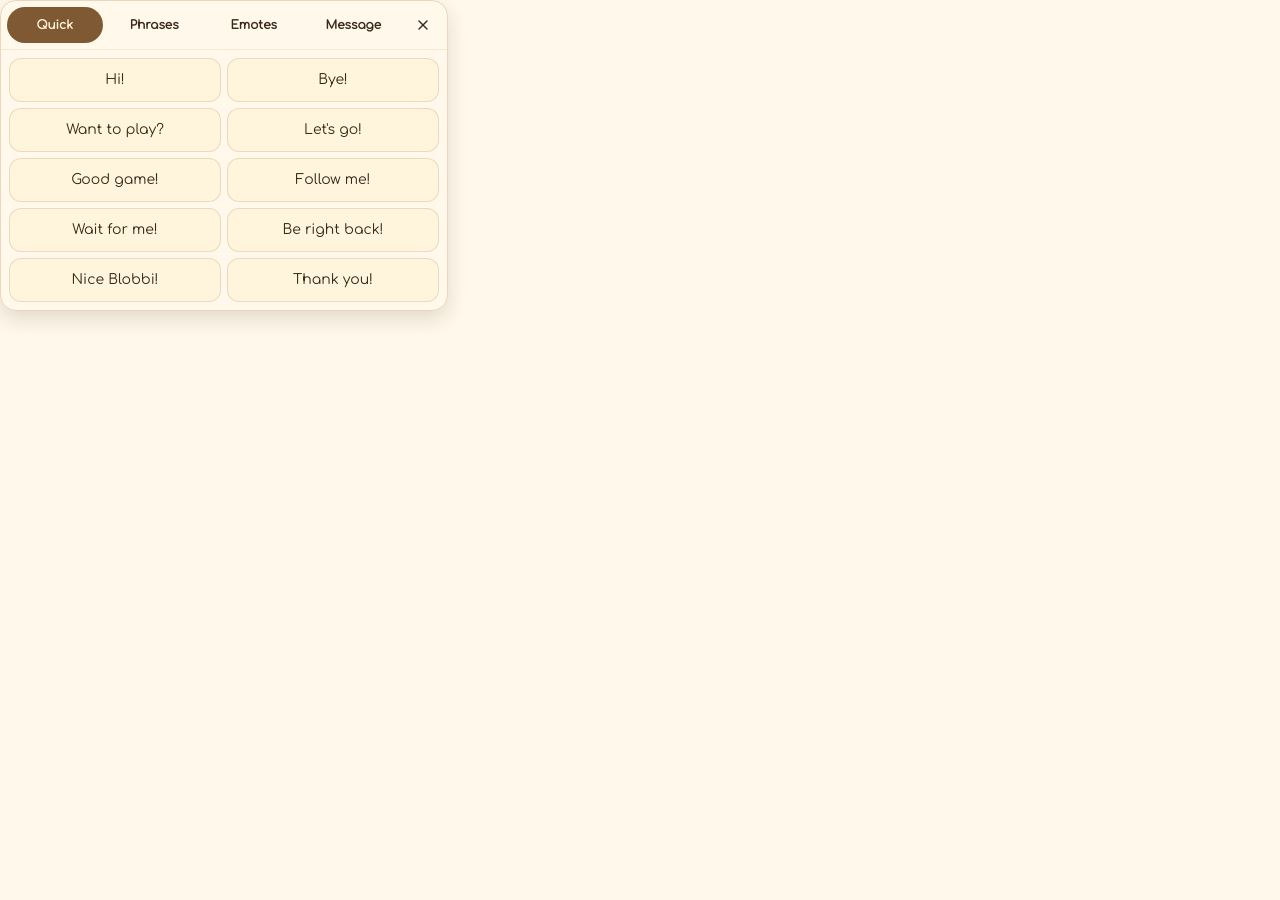
it: emotes › names each control by its label, not by its picture
Click the tab "Emotes" at point(254, 25), box [206, 7, 302, 43]
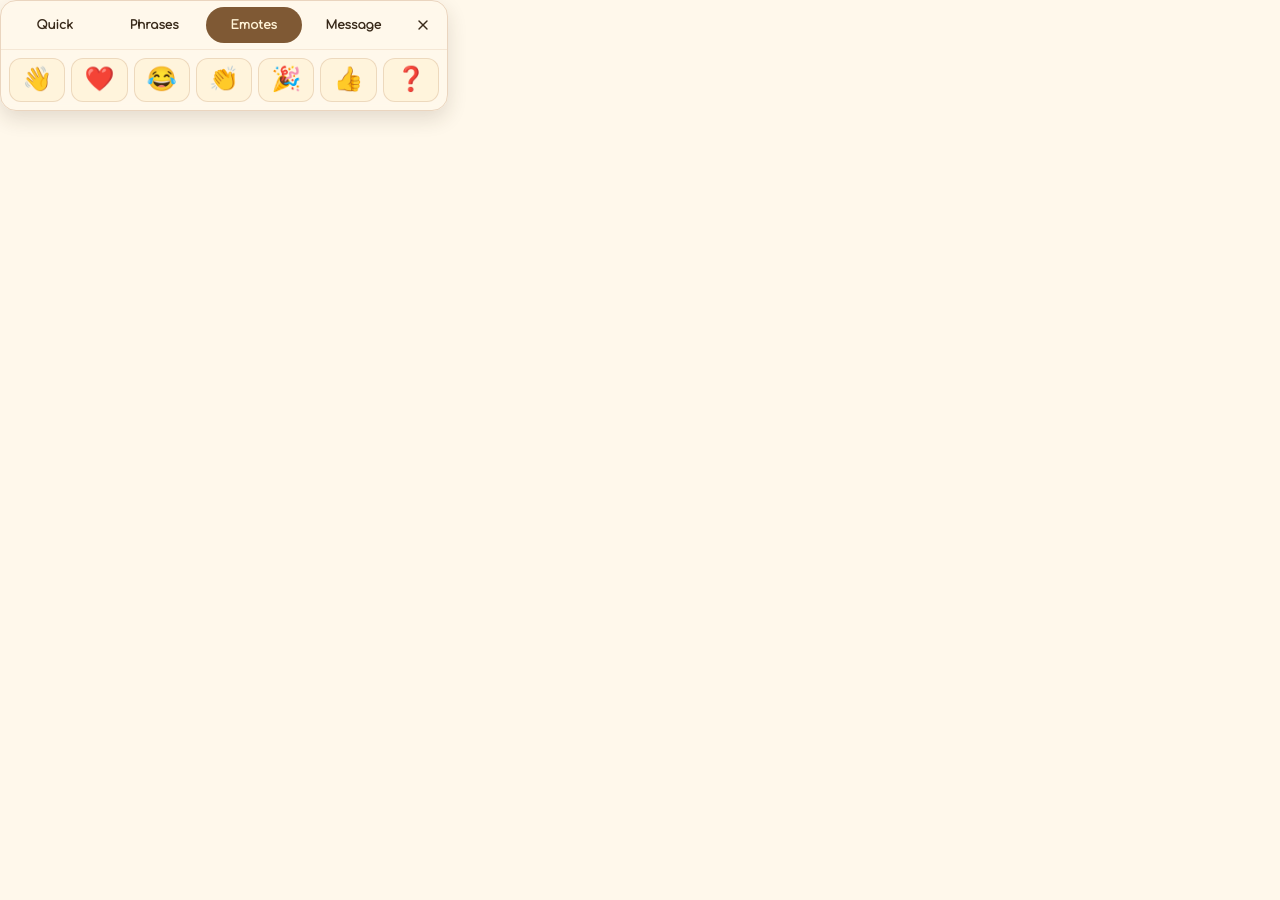
Result: the text "👋" is shown at [22, 64, 52, 96]
